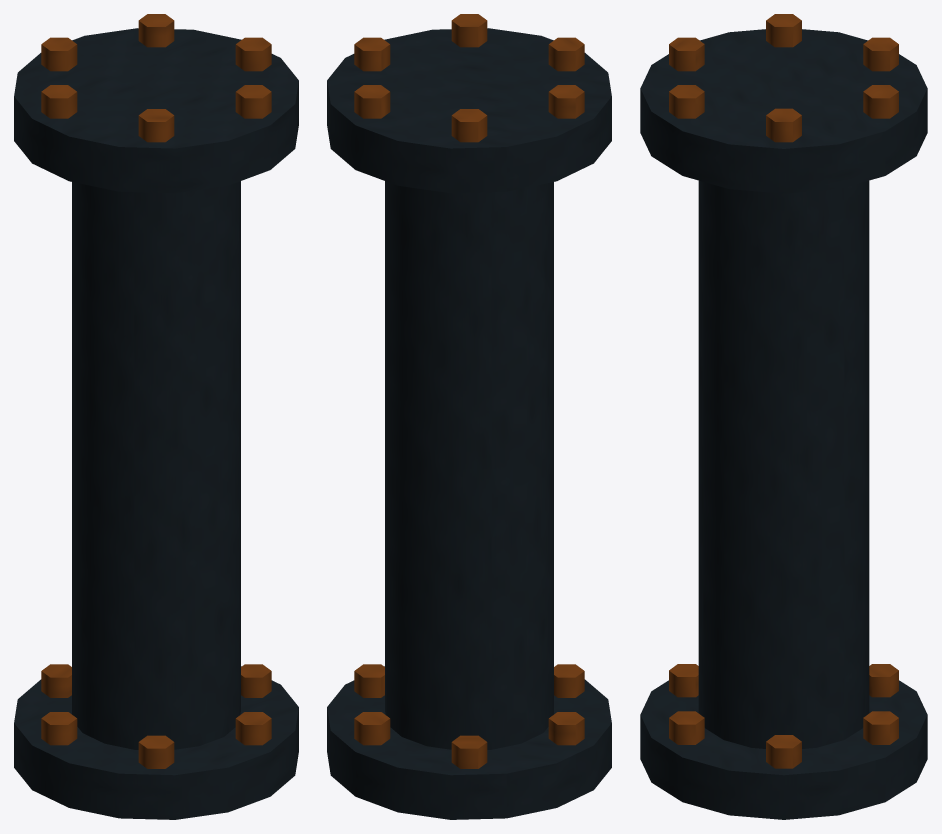
File: pipe_straight.glb
3 renders of one model, left to right at view 1: azimuth 30°, elevation 25°; view 2: azimuth 150°, elevation 25°; view 3: azimuth 270°, elevation 25°, orthographic.
Visible parts, largest first — view 1: pipe_straight; view 2: pipe_straight; view 3: pipe_straight.
Boxes of the visible parts, x1,y1,x2,y2 form: pipe_straight: (14, 14, 298, 819); pipe_straight: (327, 14, 611, 819); pipe_straight: (640, 14, 927, 819).
Size of the model in its own units: 0.32 by 0.85 by 0.32.
Materials: 2 (2 with a texture image).
